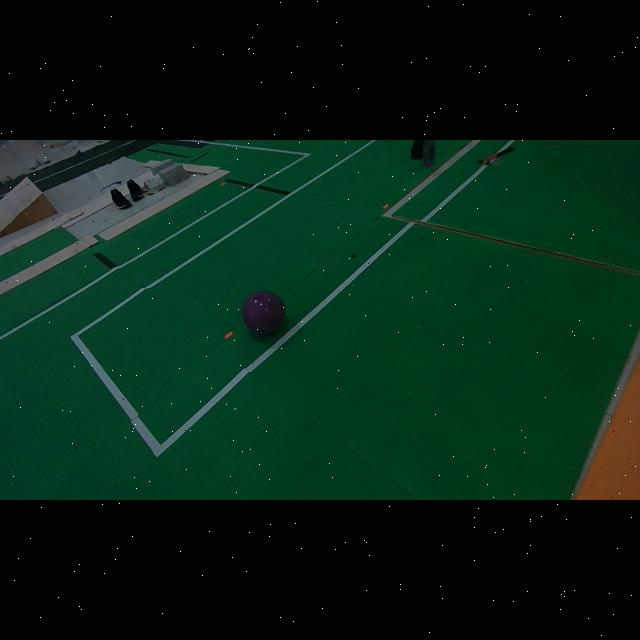P: (242, 292, 285, 335)
